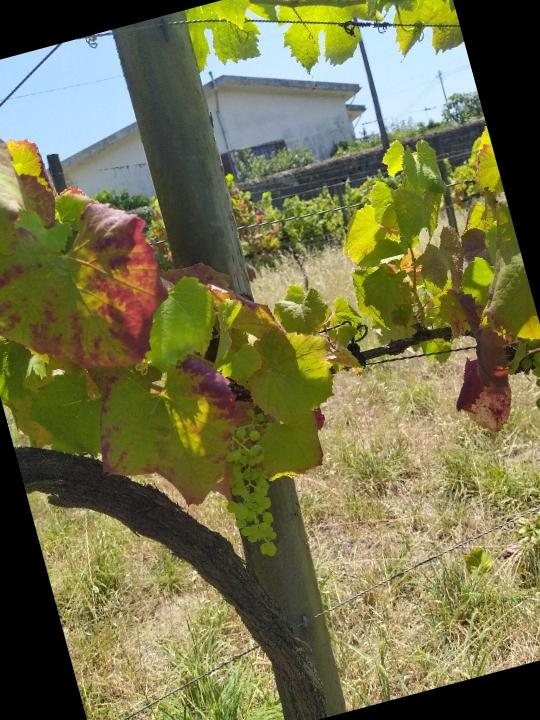grape: (201, 405, 296, 566)
